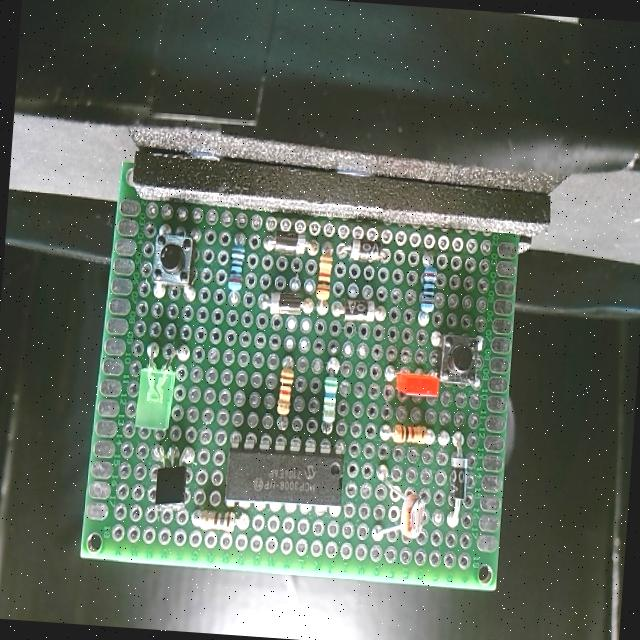IC: (222, 430, 346, 516)
cds: (386, 484, 428, 542)
diode: (264, 288, 307, 319), (344, 233, 384, 266), (270, 226, 310, 258), (337, 296, 382, 324), (446, 453, 470, 503)
led: (130, 363, 178, 433), (391, 367, 442, 400)
resistor: (190, 503, 242, 535), (224, 236, 250, 298), (312, 243, 337, 304), (418, 253, 440, 322), (379, 418, 431, 447), (272, 360, 296, 420), (318, 370, 340, 428)
switch: (148, 228, 198, 291), (436, 332, 479, 388)
transistor: (152, 453, 190, 513)
